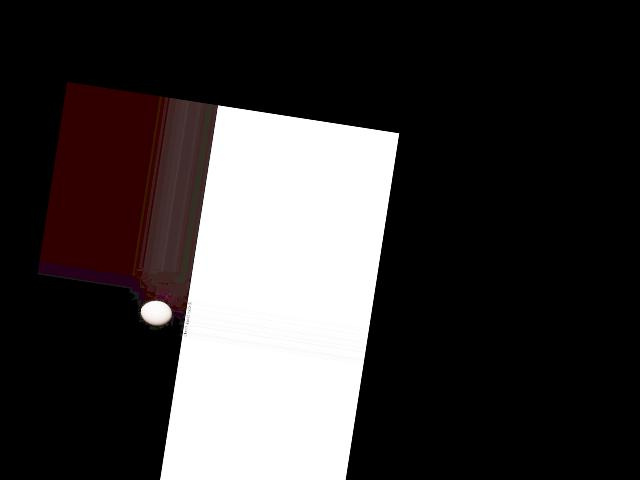egg: (139, 299, 174, 327)
